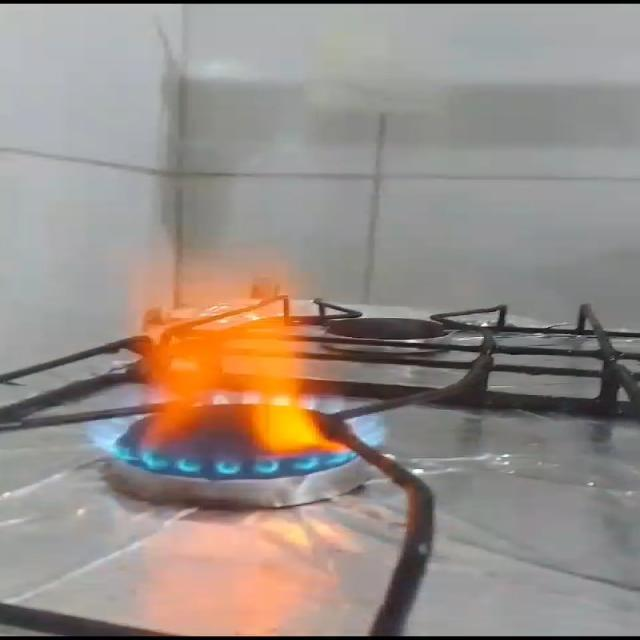fogo-ypXI: (85, 243, 399, 477)
